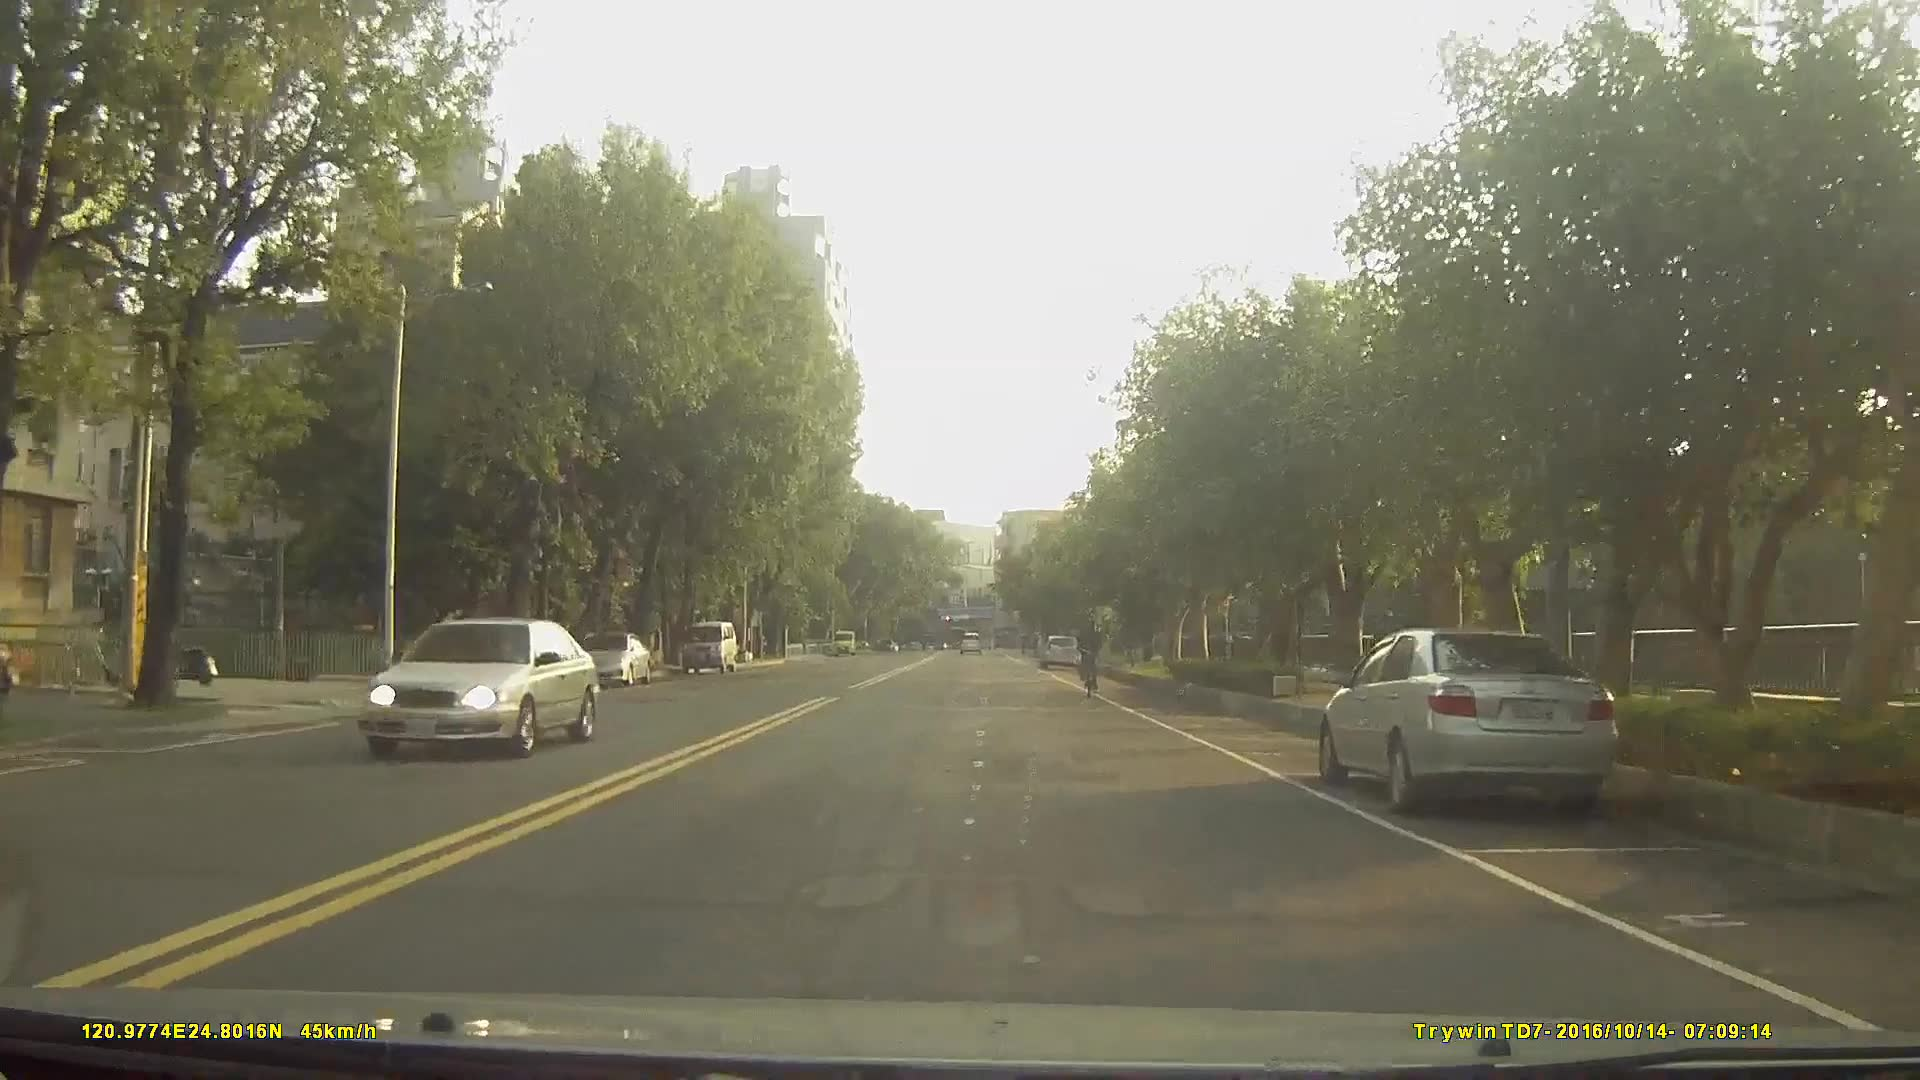rider: (1078, 617, 1105, 701)
vehicle: (1314, 624, 1622, 817), (351, 616, 600, 760), (576, 631, 651, 688), (680, 619, 738, 672), (1039, 630, 1082, 669), (959, 627, 984, 653)
